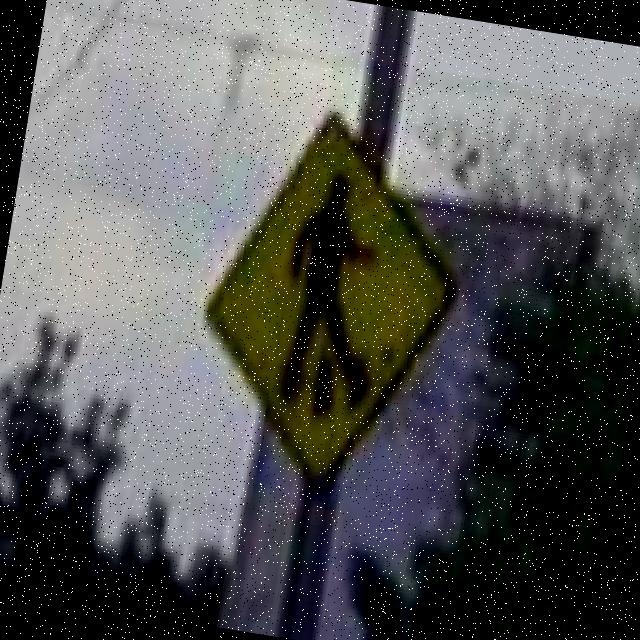Przejscie dla pieszych: (197, 100, 481, 487)
